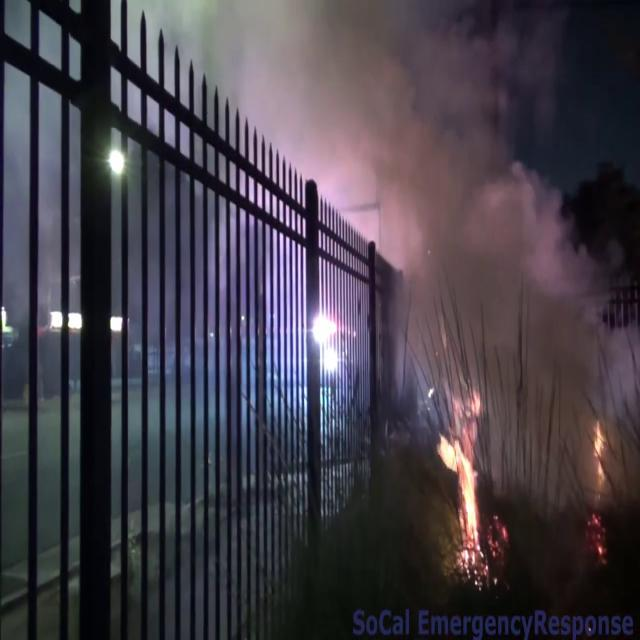Fire: (438, 398, 490, 572)
Smoke: (312, 0, 640, 485)
